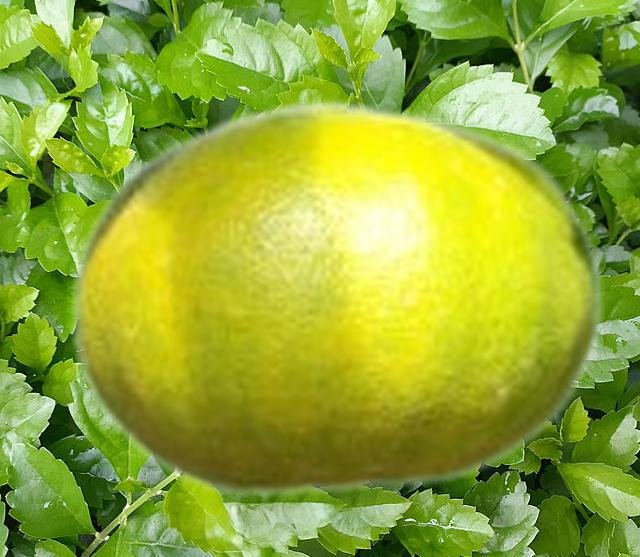dalandan: (68, 97, 603, 500)
